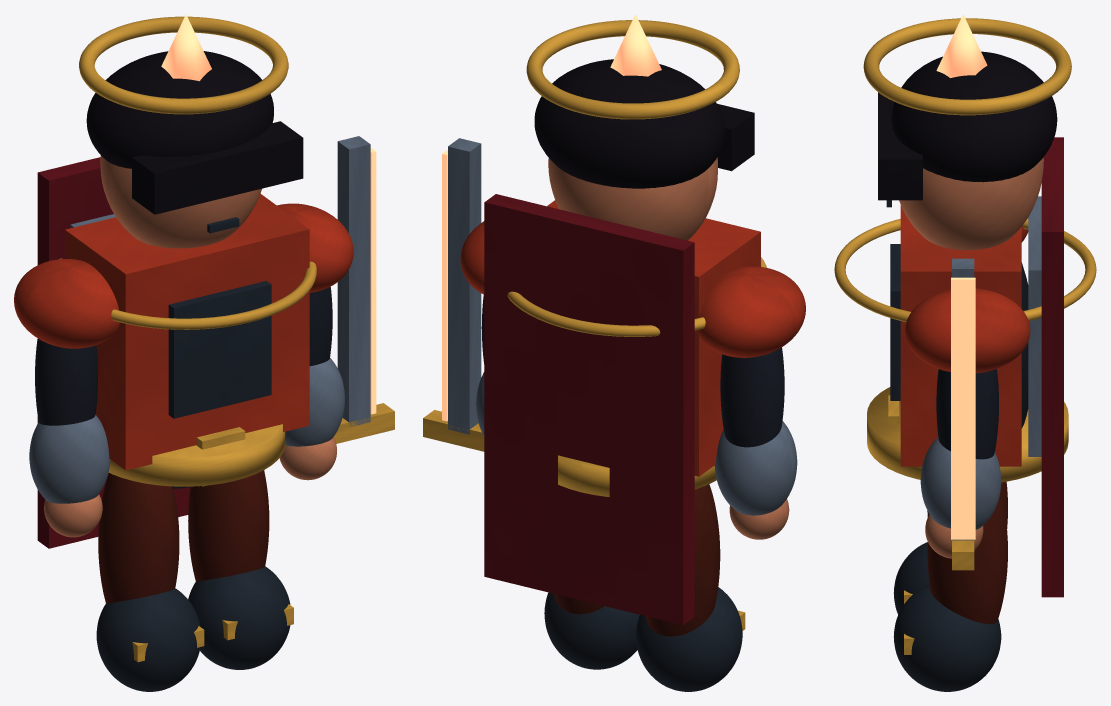
File: Mastery.glb
The picture shows the model from 3 angles, left to right: view 1: azimuth 30°, elevation 25°; view 2: azimuth 150°, elevation 25°; view 3: azimuth 270°, elevation 25°; orthographic projection. The views are drawn at different scales.
Parts seen in each view (by area): view 1: ChestPlate, Hair, ChestInset, HairFringe, Leg, SwordBlade, Boot, Boot.001, Leg.001, Shoulder, CrownRing, Cape (+14 smaller); view 2: Cape, Hair, SwordBlade, Shoulder, CrownRing, ChestPlate, Head, Boot, Arm, Gauntlet, Boot.001, Leg (+8 smaller); view 3: Hair, ChestPlate, Cape, Head, Boot.001, CrownRing, SwordEdge, Shoulder.001, Leg.001, Gauntlet.001, WaistGuard, BackArmor (+10 smaller).
Boxes of the visible parts, x1,y1,x2,y2 form: ChestPlate: (65,193,309,470); Hair: (86,51,273,168); ChestInset: (168,281,271,418); HairFringe: (132,121,303,214); Leg: (98,473,179,603); SwordBlade: (337,136,370,427); Boot: (96,588,200,691); Boot.001: (188,566,290,669); Leg.001: (188,470,269,581); Shoulder: (14,259,119,348); CrownRing: (79,16,288,114); Cape: (37,157,190,548); Cape: (484,194,694,625); Hair: (534,59,724,188); SwordBlade: (448,138,481,434); Shoulder: (697,266,805,357); CrownRing: (526,20,739,119); ChestPlate: (547,200,760,476); Head: (548,157,717,240); Boot: (636,587,742,691); Arm: (720,347,784,447); Gauntlet: (714,421,797,515); Boot.001: (544,592,639,669); Leg: (645,484,720,636); Hair: (891,51,1057,182); ChestPlate: (900,205,1021,466); Cape: (1041,137,1063,597); Head: (899,157,1043,250); Boot.001: (893,585,1001,691); CrownRing: (863,18,1071,115); SwordEdge: (951,277,975,539); Shoulder.001: (905,288,1030,373); Leg.001: (927,492,1007,624); Gauntlet.001: (920,437,1001,529); WaistGuard: (867,387,1068,482); BackArmor: (1028,196,1041,456).
Size of the model in its own units: 1.86 by 3.21 by 1.17.
12 materials, 9 textured.
